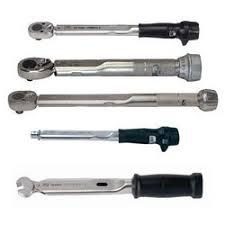wrench: (6, 86, 219, 114), (15, 50, 202, 81), (26, 19, 200, 46)
